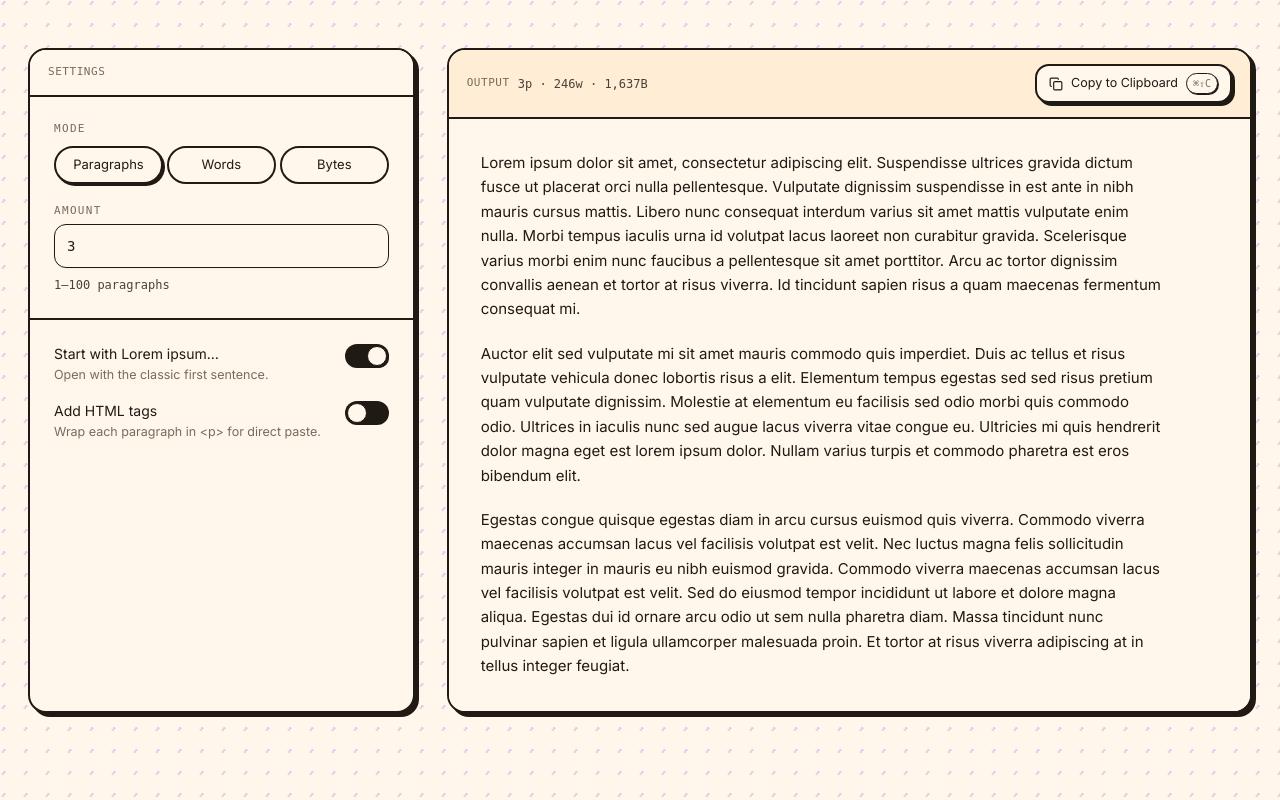
Test case: LoremIpsumRoute › toggling 'Add HTML tags' adds <p> tags to output
# Toggle on HTML tags
Click the switch named "Add HTML tags" in the row of "Add HTML tags".
click(367, 413)  # box [345,401,389,425]
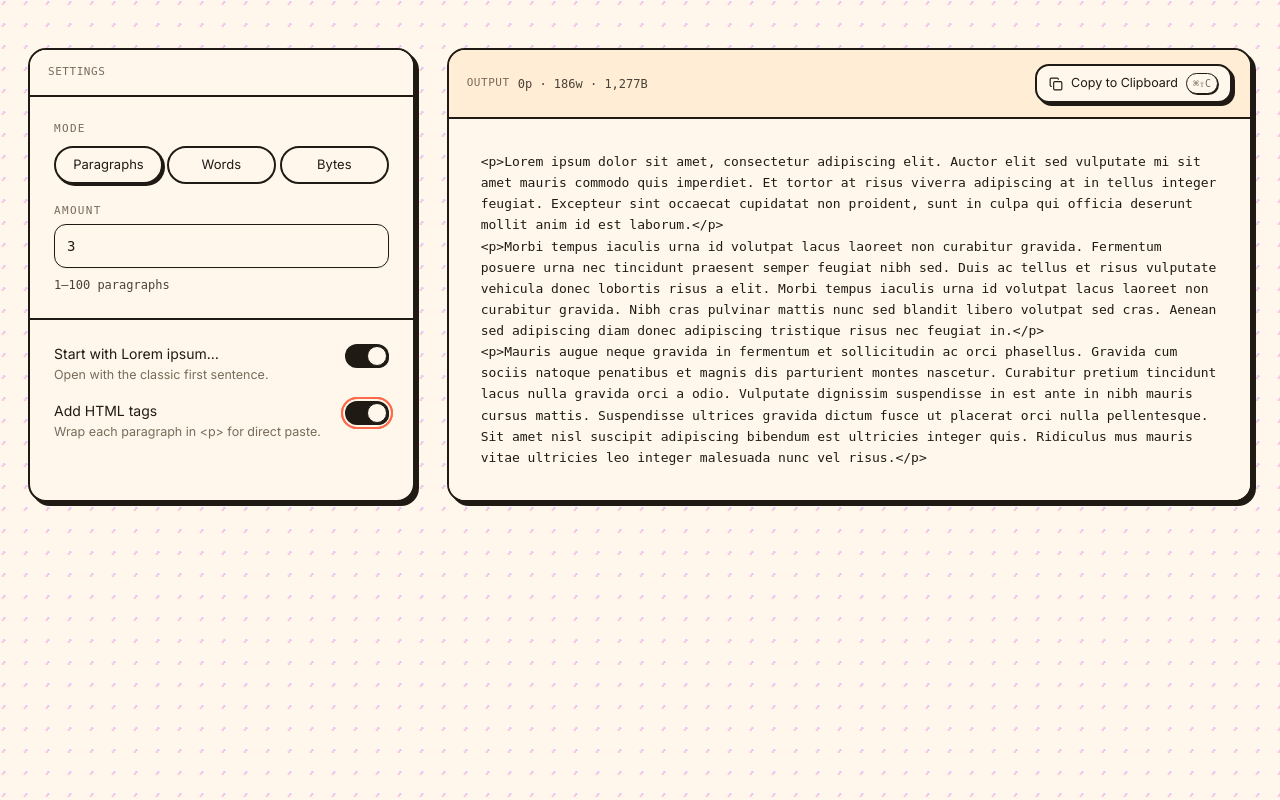
Expected: the element with test id "output-area" shows "</p>", [481,154,1224,465]
